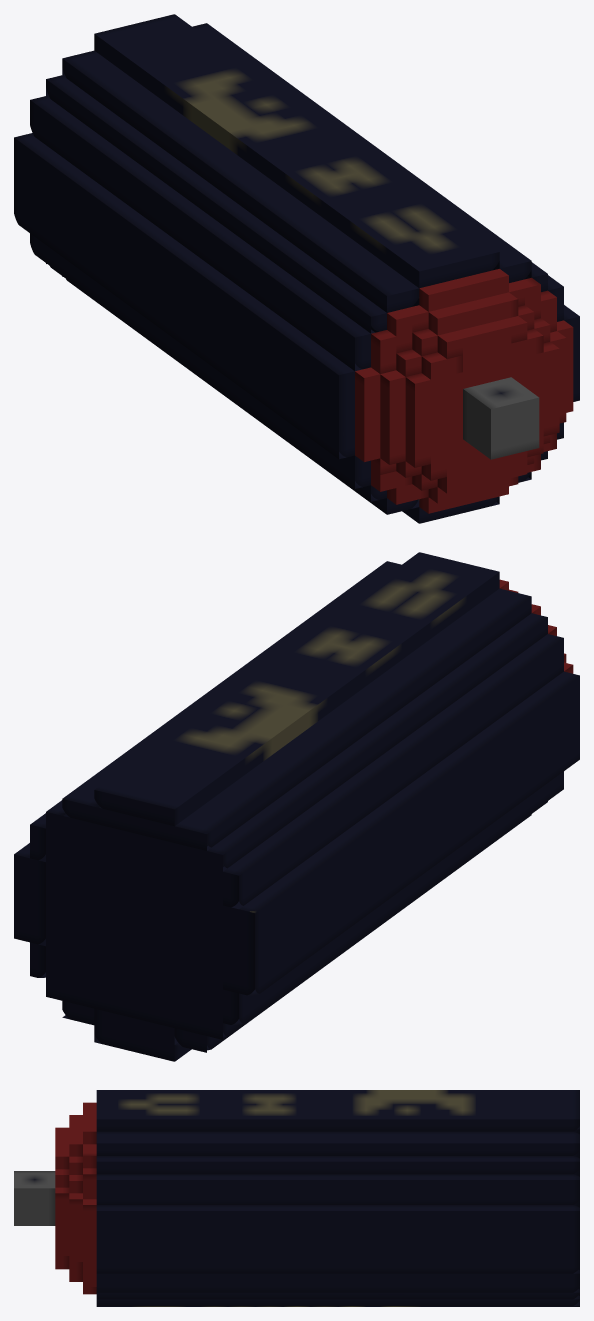
Rendered from szpray.dae.
3 renders of one model, top to bottom at view 1: azimuth 30°, elevation 25°; view 2: azimuth 150°, elevation 25°; view 3: azimuth 270°, elevation 25°, orthographic. The views are drawn at different scales.
Visible parts, largest first — view 1: Content; view 2: Content; view 3: Content.
Boxes of the visible parts, x1,y1,x2,y2 form: Content: (14, 14, 579, 523); Content: (14, 552, 579, 1061); Content: (14, 1090, 579, 1306).
Bounding box in the file's own units: 15 × 15 × 41.
1 material, 1 textured.
